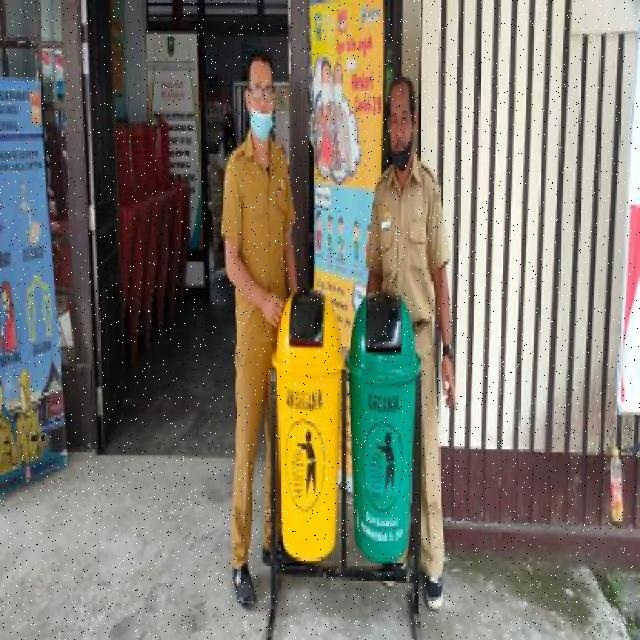garbage container: (264, 290, 347, 581), (346, 290, 425, 575)
